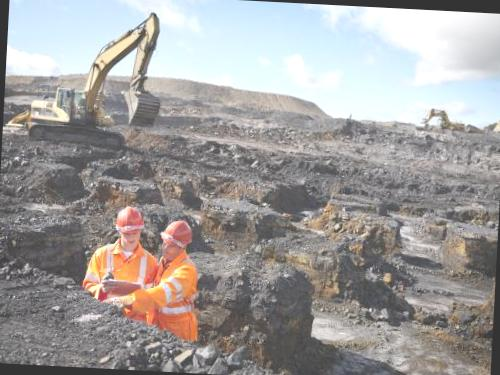person: (83, 204, 159, 324), (154, 217, 203, 338)
